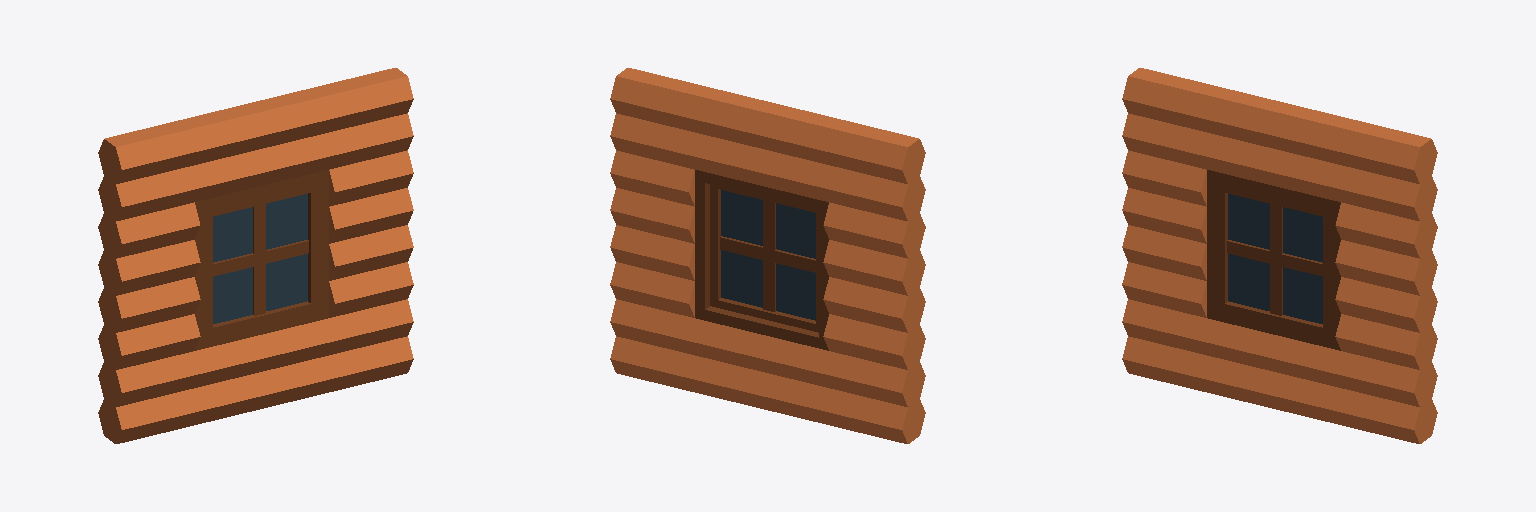
Rendered from cabinWindow.obj.
The picture shows the model from 3 angles: view 1: azimuth 30°, elevation 25°; view 2: azimuth 150°, elevation 25°; view 3: azimuth 330°, elevation 25°; orthographic projection.
Parts seen in each view (by area): view 1: cabinWindow, frame; view 2: cabinWindow, frame; view 3: cabinWindow, frame.
Part boxes in pixels (x1,y1,x2,y2): cabinWindow: (98, 68, 413, 443); frame: (195, 170, 328, 350); cabinWindow: (610, 68, 925, 443); frame: (695, 170, 828, 350); cabinWindow: (1122, 68, 1437, 443); frame: (1207, 170, 1340, 350).
Size of the model in its own units: 1 by 0.9727 by 0.1404.